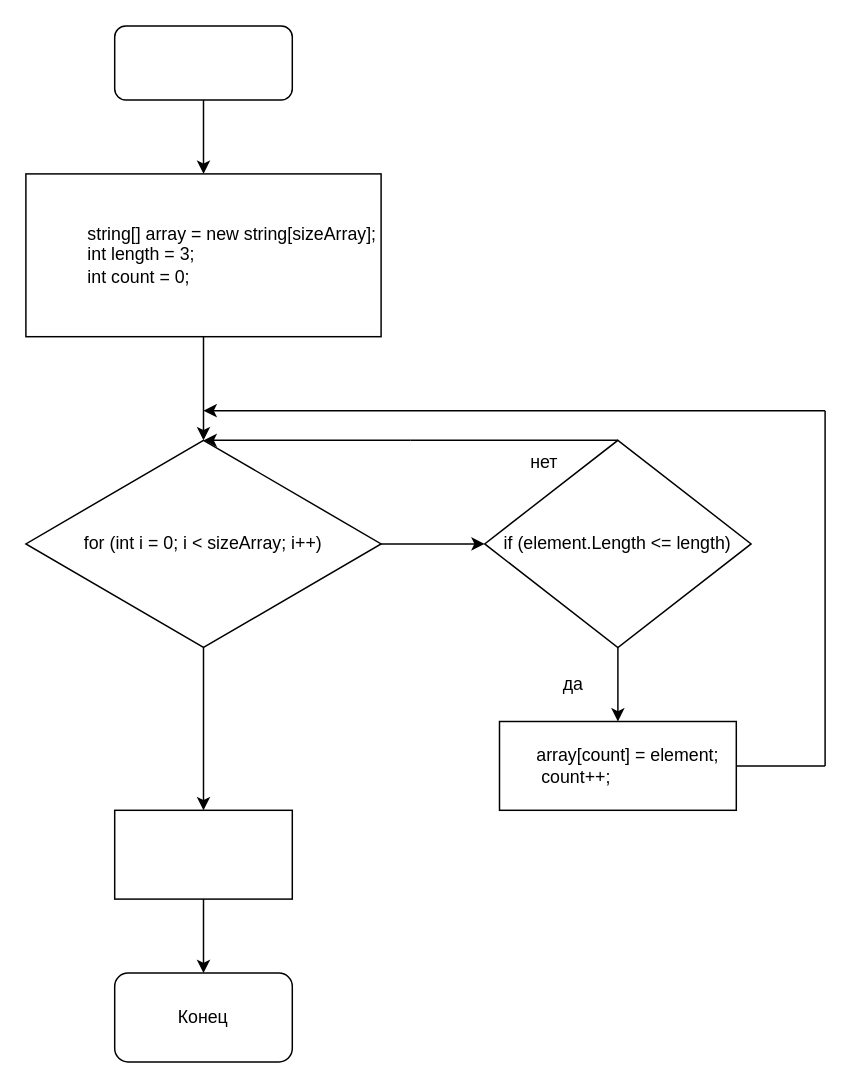
Image size: 863x1088. Some labels were removed from this diagram. Here are the shapes that lost their labels. From the top down, the centre of each, then its label:
point (202, 62): Начало
point (202, 854): PrintArray(array)
